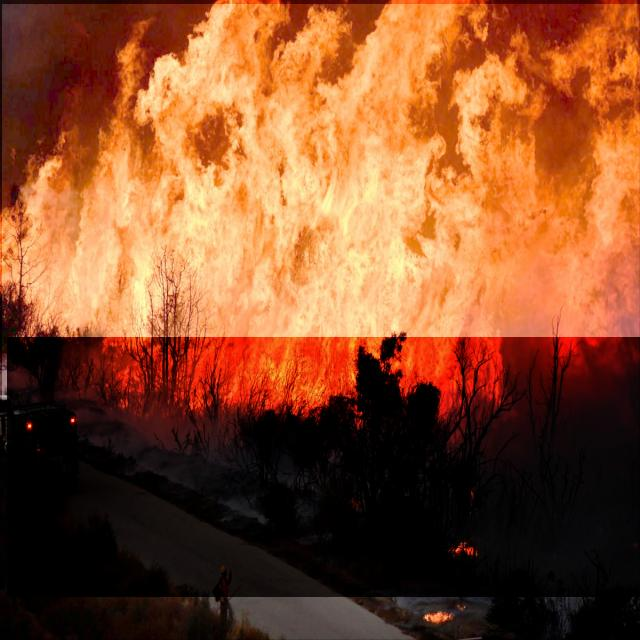Fire: (2, 4, 640, 402)
Smoke: (7, 337, 640, 597)
